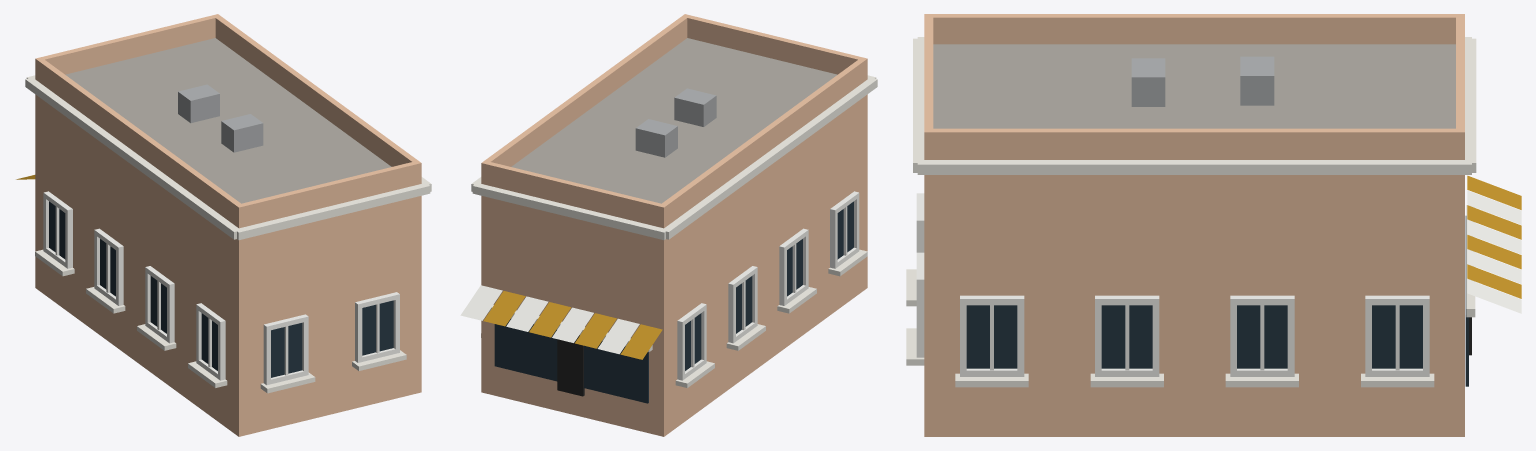
3 views of the same model, side by side, from view 1: azimuth 30°, elevation 25°; view 2: azimuth 150°, elevation 25°; view 3: azimuth 270°, elevation 25° (orthographic). The views are drawn at different scales.
Parts seen in each view (by area): view 1: b8266; view 2: b8266; view 3: b8266.
Boxes of the visible parts, bbox=[...] form: b8266: bbox=[16, 14, 431, 436]; b8266: bbox=[460, 14, 877, 436]; b8266: bbox=[906, 14, 1521, 436].
Size of the model in its own units: 2801 by 3005 by 5447.
